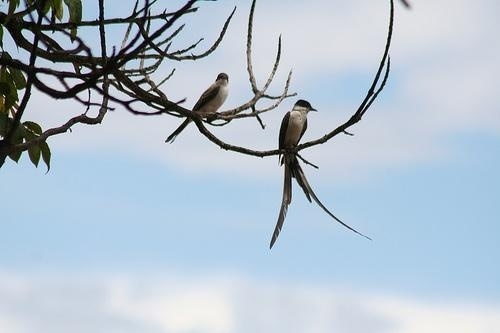bird: (268, 96, 375, 247), (166, 70, 238, 146)
